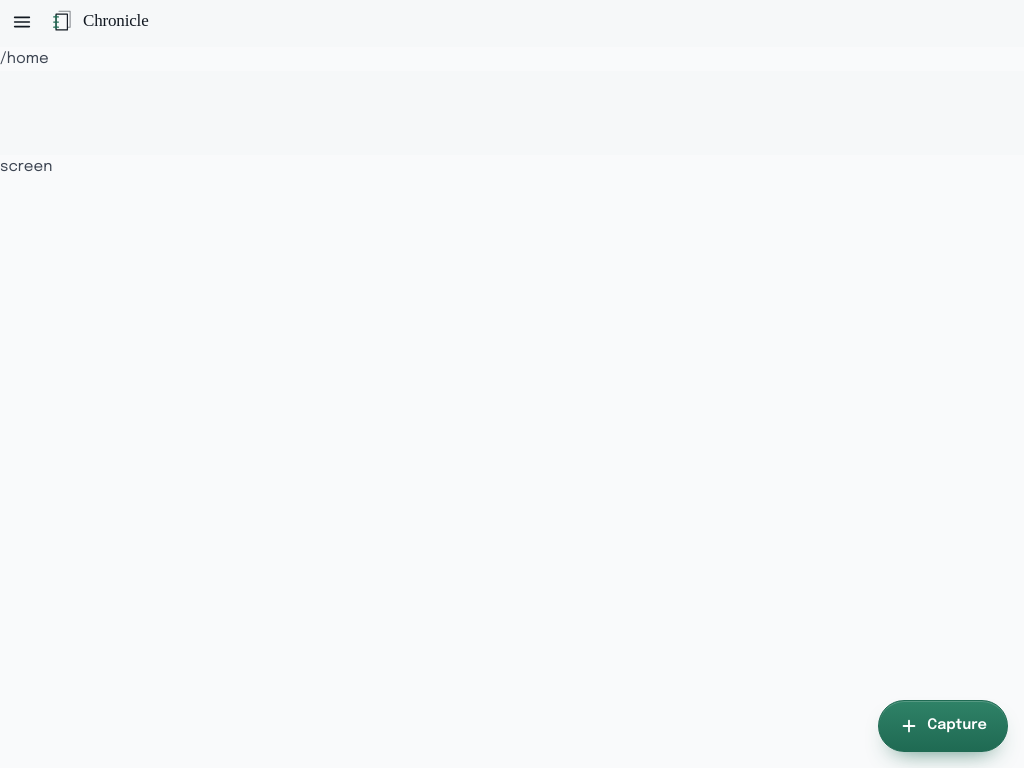
Test: mobile drawer › navigates to Settings and closes afterwards
Click the button with test id "nav-menu-button" at (22, 22), box [0,0,44,44]
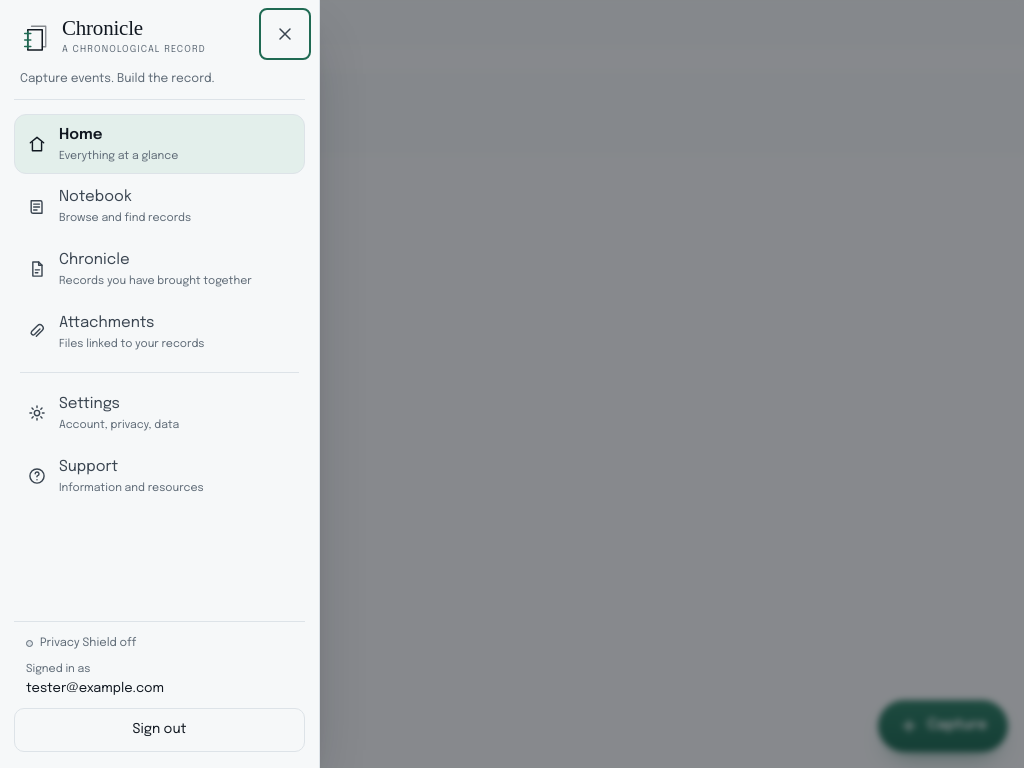
expect the dialog with test id "nav-drawer" is shown: met, box [0,0,320,767]
Click the button "Settings Account, privacy, data" at (89, 404), box [14,383,305,444]
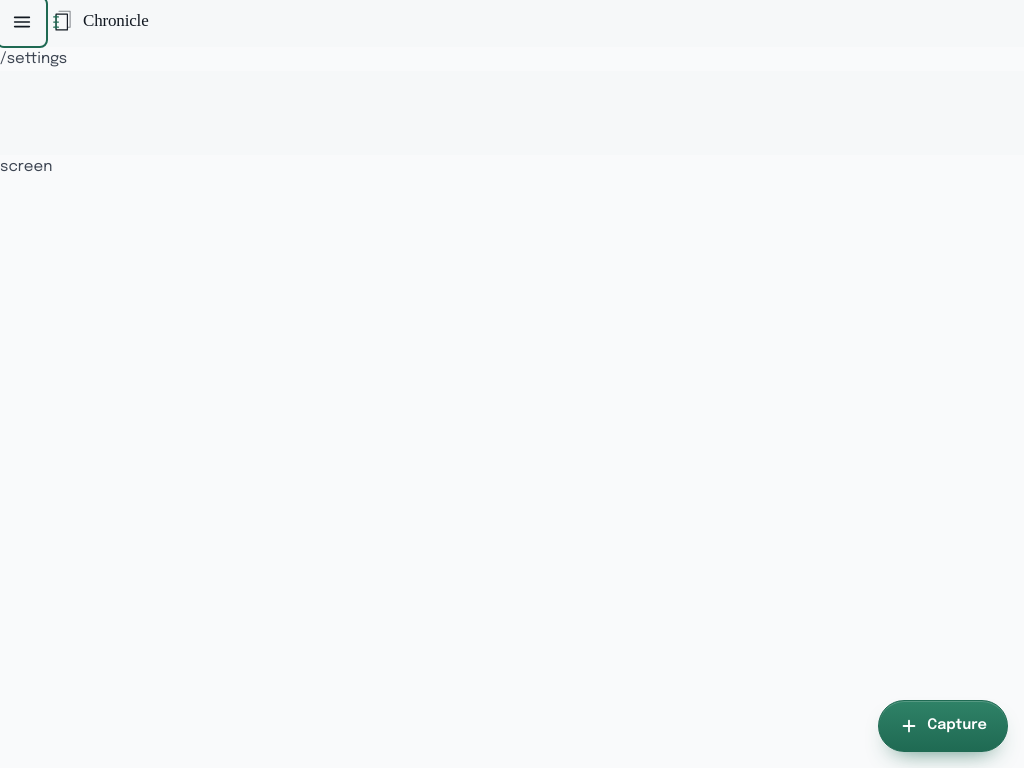
expect the text with test id "path" reads "/settings": met, box [0,51,67,67]
expect the dialog with test id "nav-drawer" is gone: met
